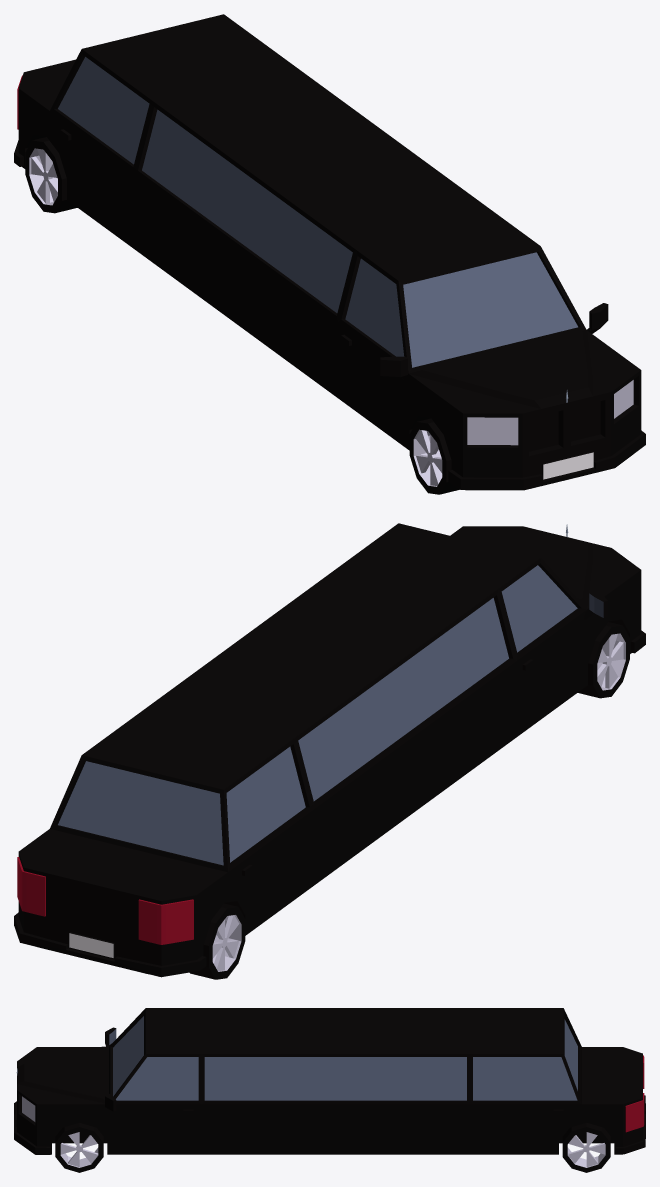
The model's file is Limousine.gltf.
The picture shows the model from 3 angles, top to bottom: view 1: azimuth 30°, elevation 25°; view 2: azimuth 150°, elevation 25°; view 3: azimuth 270°, elevation 25°; orthographic projection. The views are drawn at different scales.
Parts seen in each view (by area): view 1: Limousine, Limousine wheel rear right, Limousine wheel front right; view 2: Limousine, Limousine wheel rear right, Limousine wheel front right; view 3: Limousine, Limousine wheel rear left, Limousine wheel front left.
Boxes of the visible parts, x1,y1,x2,y2 form: Limousine: (14, 14, 645, 490); Limousine wheel rear right: (25, 137, 77, 213); Limousine wheel front right: (409, 418, 459, 494); Limousine: (14, 523, 645, 977); Limousine wheel rear right: (189, 903, 245, 979); Limousine wheel front right: (578, 622, 629, 698); Limousine: (14, 1008, 645, 1154); Limousine wheel rear left: (562, 1123, 610, 1172); Limousine wheel front left: (55, 1123, 103, 1172).
Bounding box in the file's own units: 2.81 × 2.01 × 10.24.
